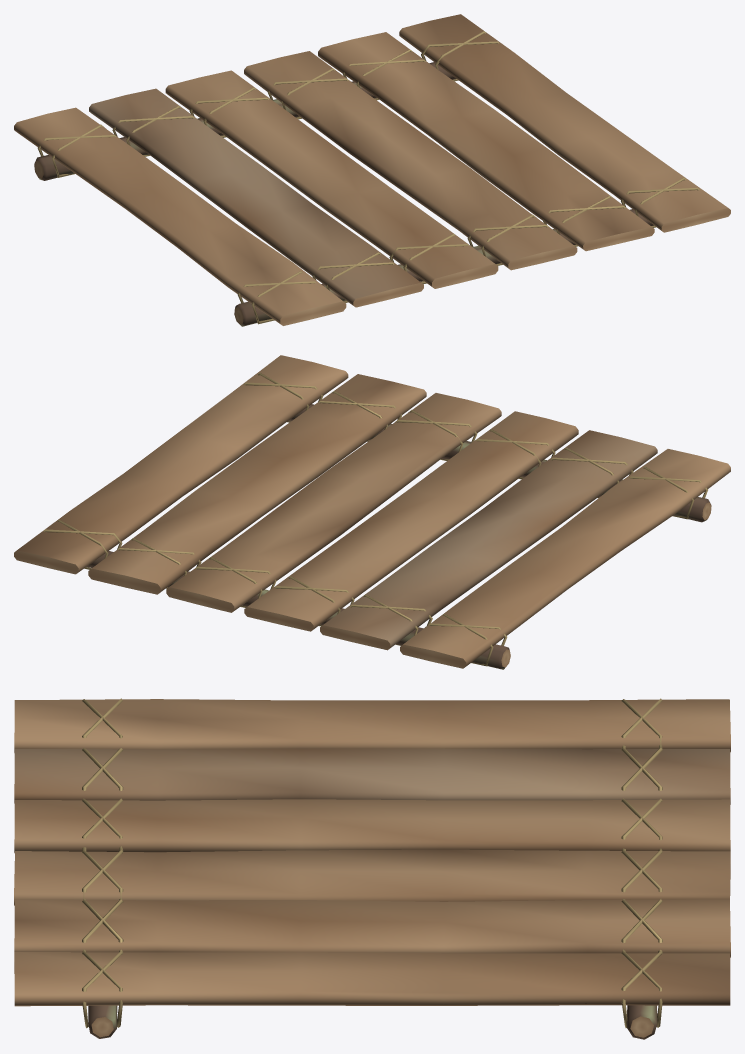
File: platform.glb
3 renders of one model, top to bottom at view 1: azimuth 30°, elevation 25°; view 2: azimuth 150°, elevation 25°; view 3: azimuth 270°, elevation 25°, orthographic. The views are drawn at different scales.
Visible parts, largest first — view 1: Part_06, Part_03, Part_05, Part_04, Part_02, Part_07, Part_09, Part_08, Part_01, Part_00; view 2: Part_06, Part_03, Part_05, Part_04, Part_02, Part_07, Part_09, Part_08, Part_01, Part_00; view 3: Part_07, Part_06, Part_03, Part_04, Part_05, Part_02, Part_09, Part_08, Part_01, Part_00.
Boxes of the visible parts, bbox=[...] form: Part_06: bbox=[318, 32, 654, 251]; Part_03: bbox=[89, 88, 423, 307]; Part_05: bbox=[244, 51, 577, 270]; Part_04: bbox=[165, 70, 498, 288]; Part_02: bbox=[14, 107, 346, 325]; Part_07: bbox=[399, 14, 730, 232]; Part_09: bbox=[37, 31, 499, 177]; Part_08: bbox=[237, 177, 699, 324]; Part_01: bbox=[34, 62, 456, 180]; Part_00: bbox=[234, 209, 653, 326]; Part_06: bbox=[88, 374, 426, 594]; Part_03: bbox=[320, 430, 657, 650]; Part_05: bbox=[166, 393, 501, 612]; Part_04: bbox=[244, 411, 578, 631]; Part_02: bbox=[400, 449, 730, 668]; Part_07: bbox=[14, 355, 348, 574]; Part_09: bbox=[43, 519, 507, 666]; Part_08: bbox=[243, 373, 707, 519]; Part_01: bbox=[87, 551, 510, 669]; Part_00: bbox=[288, 404, 711, 522]; Part_07: bbox=[14, 952, 730, 1006]; Part_06: bbox=[14, 899, 730, 957]; Part_03: bbox=[14, 748, 730, 804]; Part_04: bbox=[14, 799, 730, 853]; Part_05: bbox=[14, 849, 730, 905]; Part_02: bbox=[14, 699, 730, 752]; Part_09: bbox=[621, 698, 662, 1027]; Part_08: bbox=[82, 698, 123, 1028]; Part_01: bbox=[627, 1005, 657, 1039]; Part_00: bbox=[88, 1005, 117, 1038].
Bounding box in the file's own units: 2.02 × 0.153 × 1.99.
